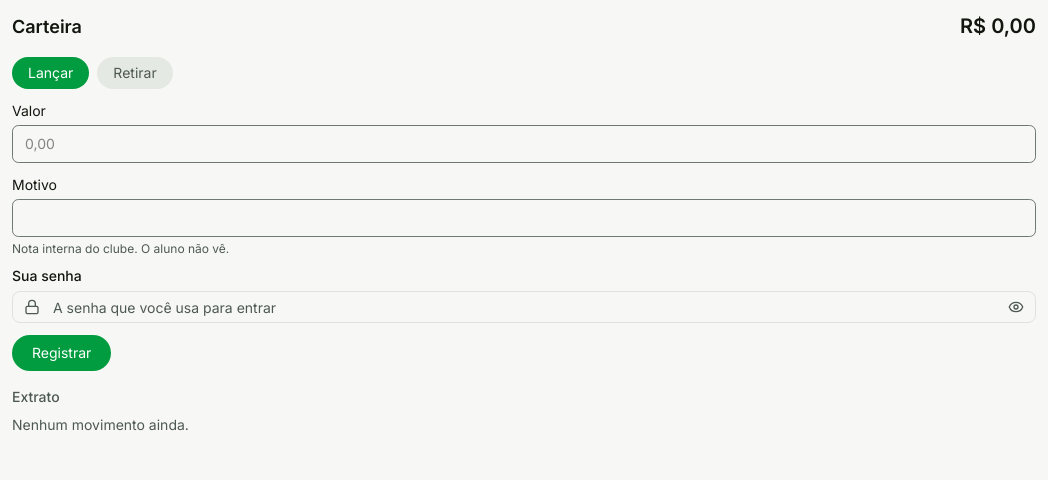
CarteiraDoAluno › AC-002: senha errada aparece NO CAMPO DA SENHA, e o valor não se perde
Expected: the text "R$ 0,00" is shown, [960,12,1036,40]
In the field labelled "Valor": point(524, 144) [12,125,1036,163], type "50"
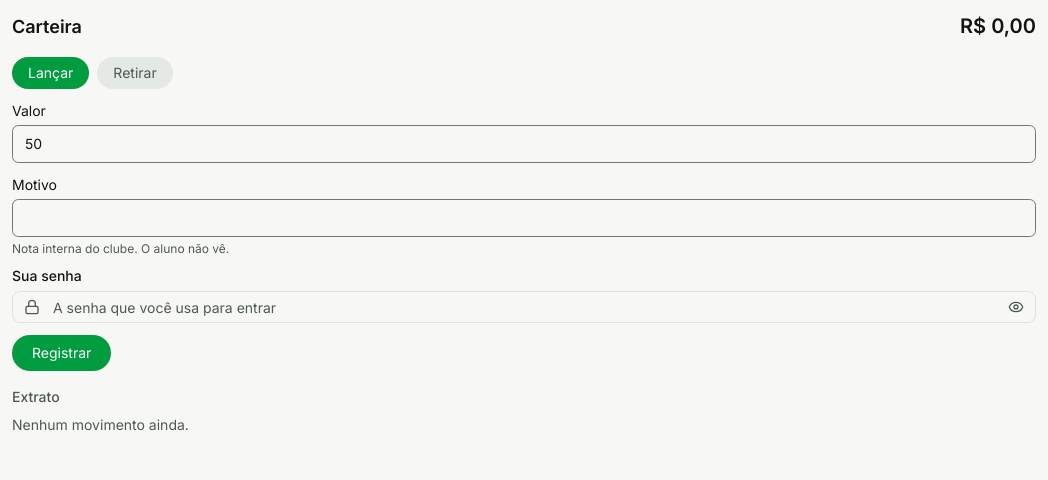
In the field labelled "Motivo": point(524, 218) [12,199,1036,237], type "aporte"
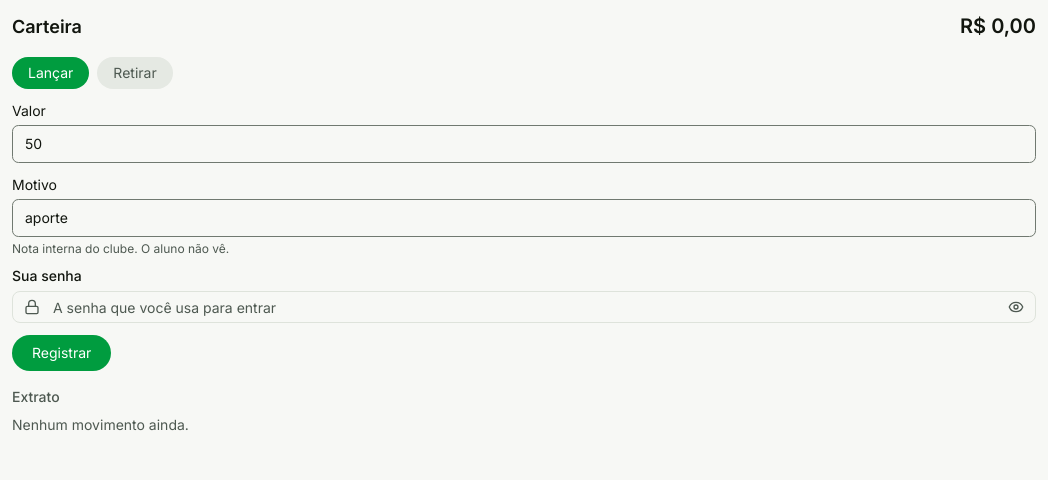
In the password field labelled "Sua senha": point(524, 307) [12,291,1036,323], type "errada"
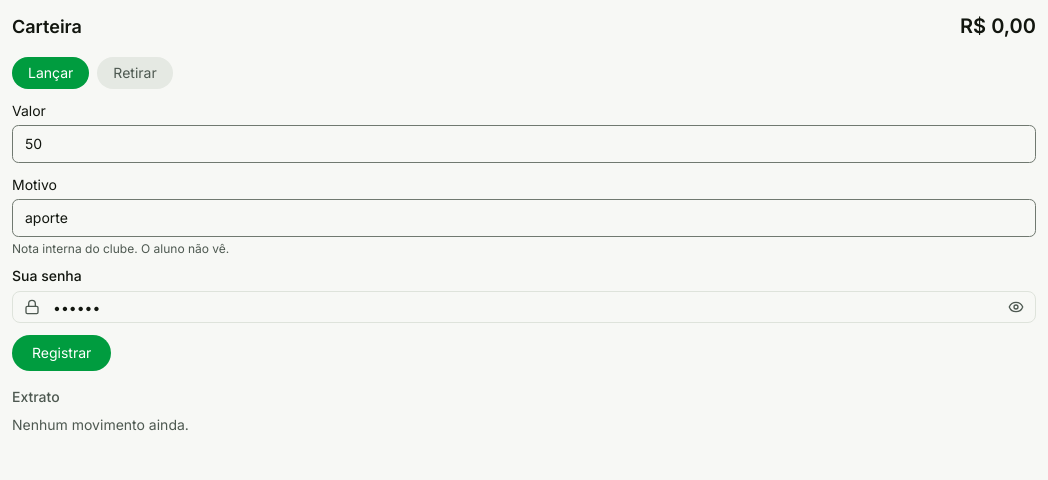
Click the button "Registrar": point(62, 353) [12,335,111,371]
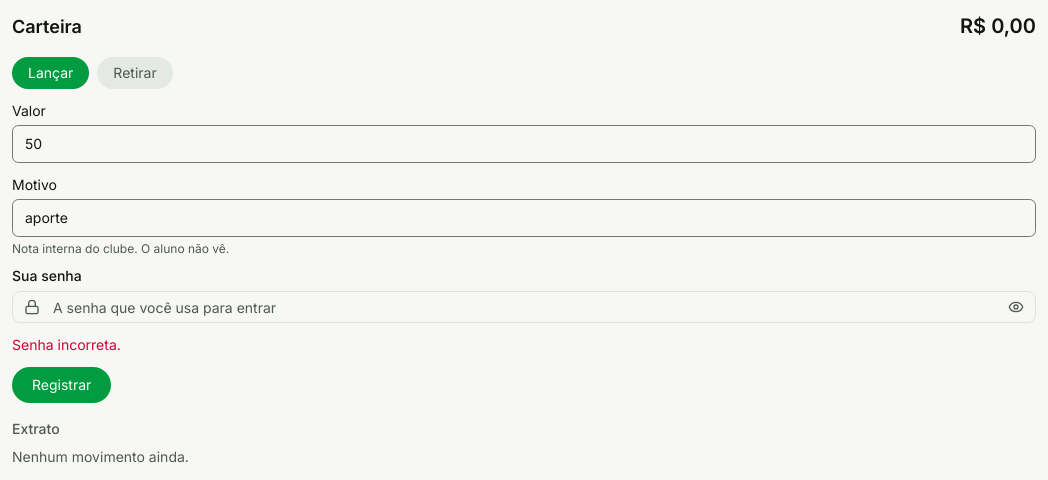
Expected: the message reads "Senha incorreta.", [12,336,121,353]
